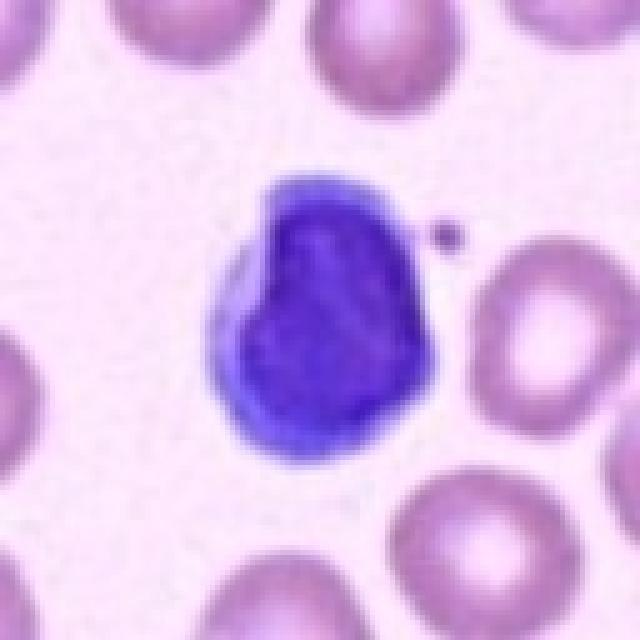lympho: (196, 161, 445, 470)
